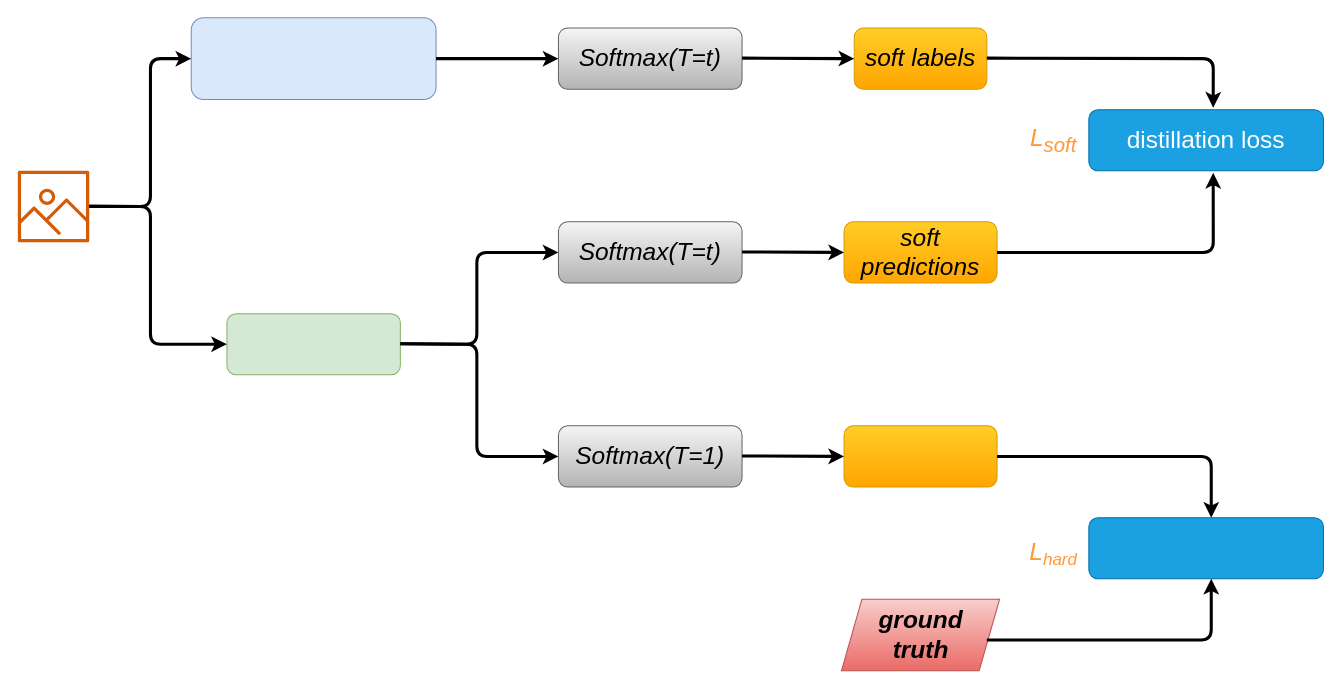
Image size: 1341x689. Some labels were removed from this diagram. The box of each missing label's shape, as (x1, y1, x2, y2) in pixels:
hard predictions: (843, 425, 997, 487)
Sdutent model: (226, 313, 400, 375)
student loss: (1088, 517, 1323, 579)
Teacher model: (190, 17, 436, 99)
